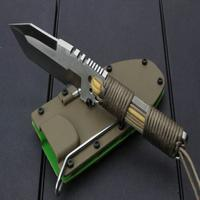knife: (5, 19, 196, 167)
